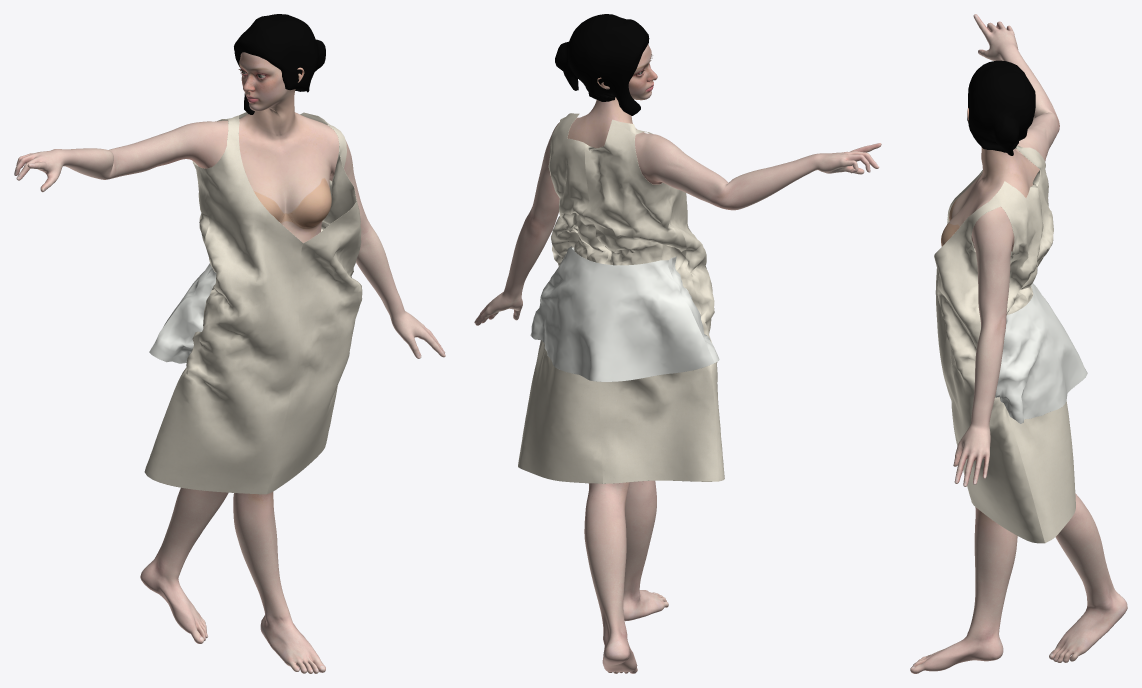
The model's file is Dramatic.obj.
3 views of the same model, side by side, from view 1: azimuth 30°, elevation 25°; view 2: azimuth 150°, elevation 25°; view 3: azimuth 270°, elevation 25° (orthographic). The views are drawn at different scales.
Size of the model in its own units: 1226 by 1775 by 569.
